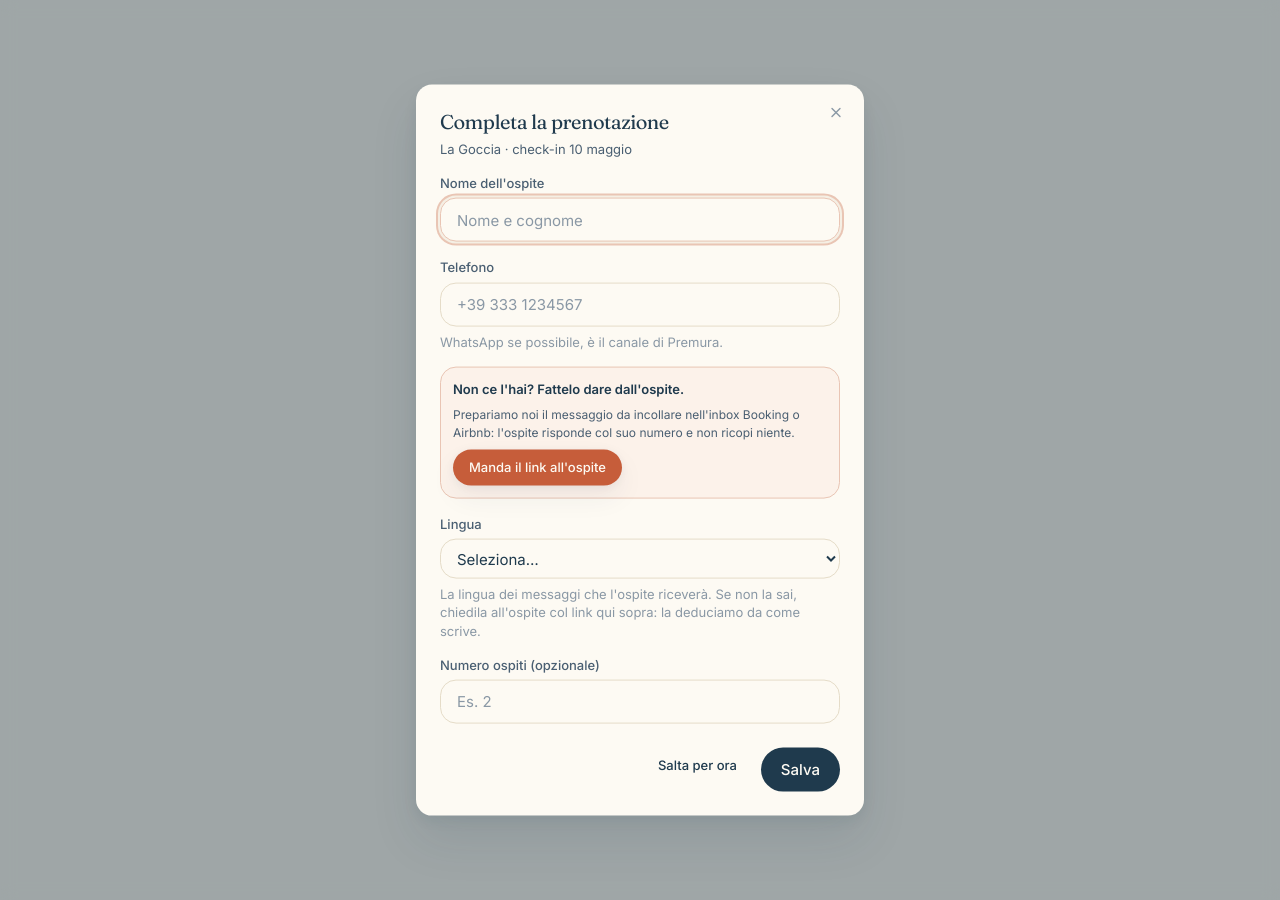
CompleteBookingDialog › submit con campi vuoti mostra messaggi di errore e non chiama l'action
The image size is (1280, 900).
Click the button "Salva" at (800, 769), box [761, 747, 840, 791]
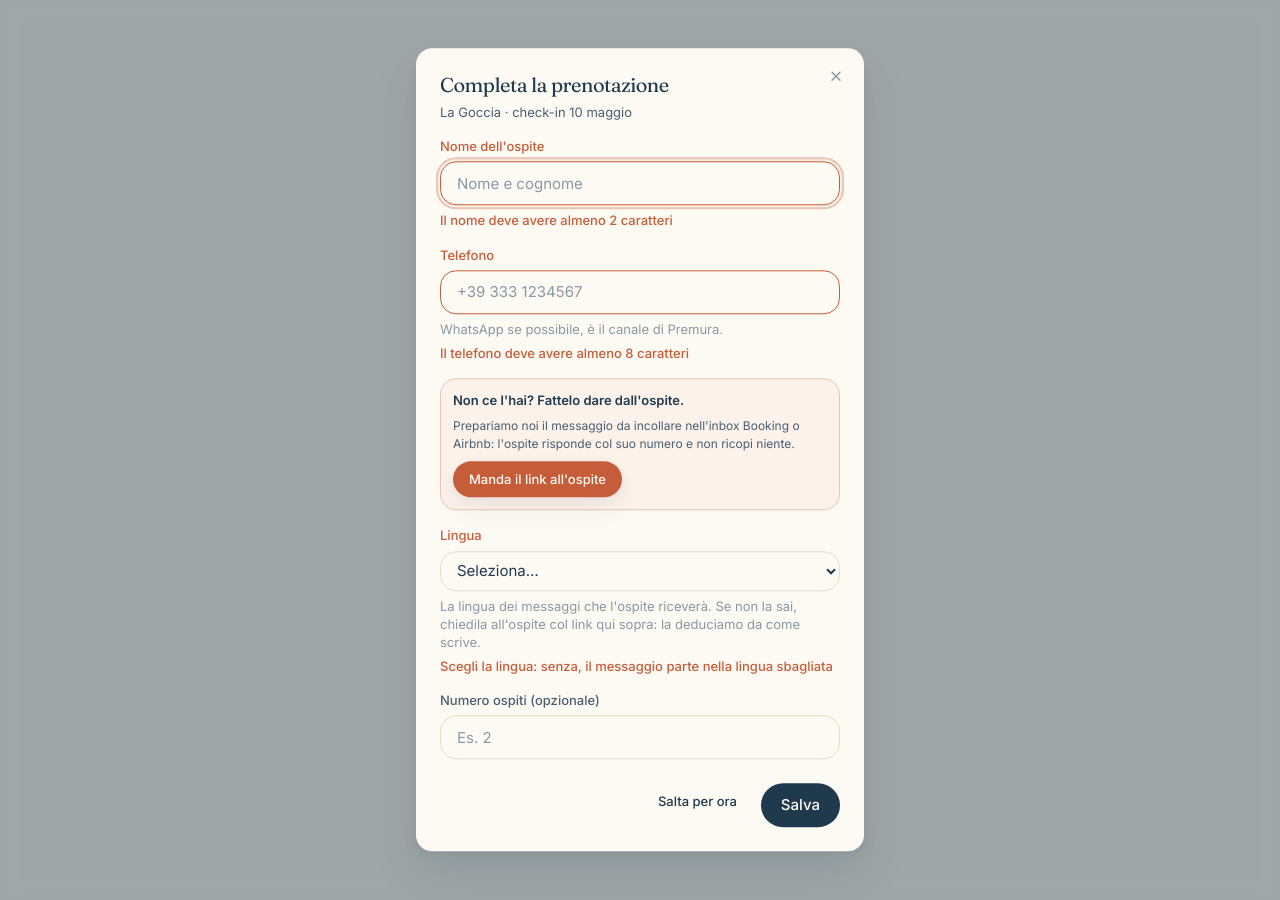
Expected: the text "Il nome deve avere almeno 2 caratteri" is shown, [440, 213, 673, 229]
Expected: the text "Il telefono deve avere almeno 8 caratteri" is shown, [440, 345, 689, 361]
Expected: the text "Scegli la lingua: senza, il messaggio parte nella lingua sbagliata" is shown, [440, 657, 840, 676]
